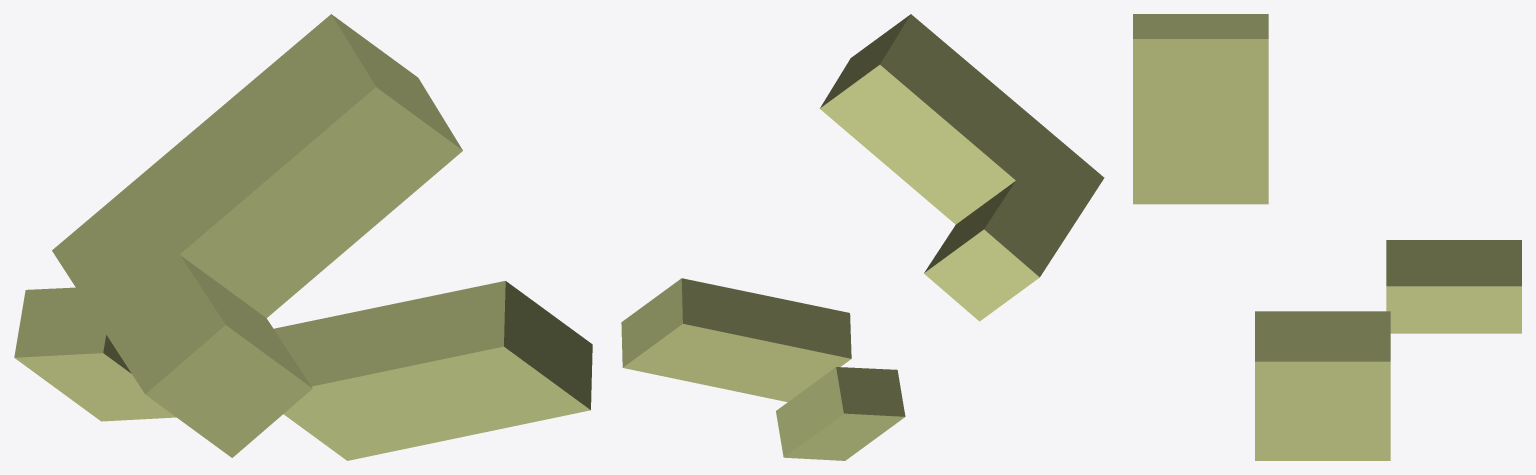
3 renders of one model, left to right at view 1: azimuth 30°, elevation 25°; view 2: azimuth 150°, elevation 25°; view 3: azimuth 270°, elevation 25°, orthographic. The views are drawn at different scales.
Parts seen in each view (by area): view 1: 0_0_1_1_3_1_2_2_0; view 2: 0_0_1_1_3_1_2_2_0; view 3: 0_0_1_1_3_1_2_2_0.
Boxes of the visible parts, bbox=[...] form: 0_0_1_1_3_1_2_2_0: bbox=[14, 14, 592, 460]; 0_0_1_1_3_1_2_2_0: bbox=[621, 14, 1104, 460]; 0_0_1_1_3_1_2_2_0: bbox=[1133, 14, 1521, 460].
Bounding box in the file's own units: 31.77 × 25.73 × 25.8.
